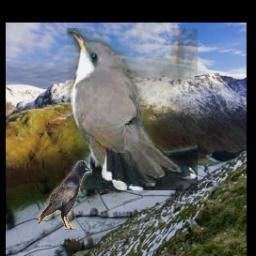Crow: (38, 160, 91, 230)
Cuckoo: (66, 29, 197, 191)
